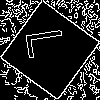L: (25, 25, 75, 60)
